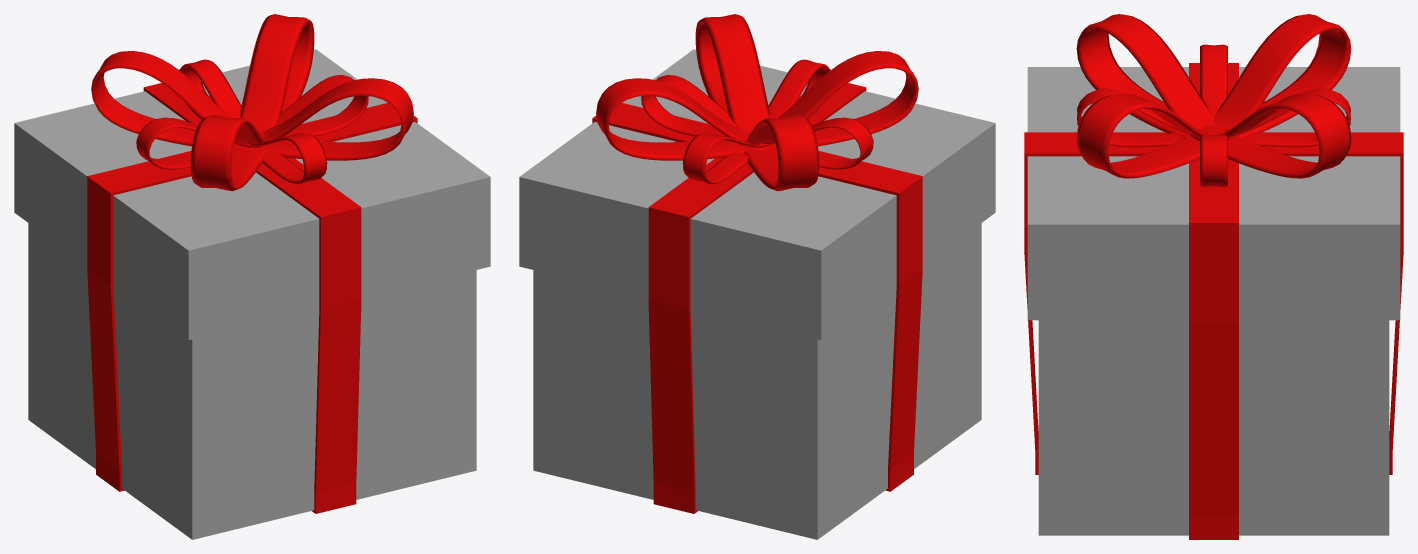
Rendered from Geschenk.fbx.
3 renders of one model, left to right at view 1: azimuth 30°, elevation 25°; view 2: azimuth 150°, elevation 25°; view 3: azimuth 270°, elevation 25°, orthographic. The views are drawn at different scales.
Parts seen in each view (by area): view 1: Box, Deckel, Geschenkband, GeschenkbandSchleife; view 2: Box, Deckel, Geschenkband, GeschenkbandSchleife; view 3: Box, Deckel, GeschenkbandSchleife, Geschenkband.
Part boxes in pixels (<box>): Box: <box>28,223,476,539</box>; Deckel: <box>14,49,490,339</box>; Geschenkband: <box>87,83,417,513</box>; GeschenkbandSchleife: <box>91,14,413,191</box>; Box: <box>533,223,981,539</box>; Deckel: <box>519,49,995,339</box>; Geschenkband: <box>592,83,922,513</box>; GeschenkbandSchleife: <box>596,14,918,191</box>; Box: <box>1038,320,1389,535</box>; Deckel: <box>1027,67,1400,320</box>; GeschenkbandSchleife: <box>1076,14,1351,187</box>; Geschenkband: <box>1024,63,1403,539</box>.
Bounding box in the file's own units: 4.32 × 5.06 × 4.32.
